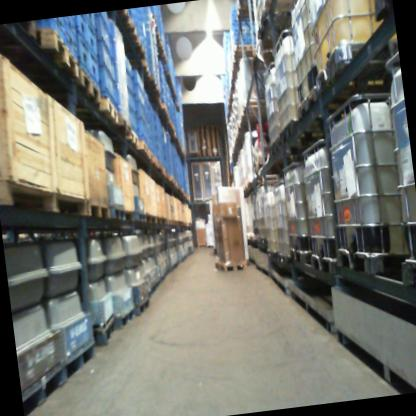pallet: (18, 361, 71, 416), (34, 23, 80, 83), (61, 334, 100, 378), (73, 64, 101, 106), (91, 312, 119, 347), (98, 95, 119, 125), (87, 196, 111, 221), (114, 304, 137, 330), (214, 257, 248, 274), (129, 57, 151, 80), (232, 41, 257, 59), (234, 1, 255, 22), (133, 295, 152, 316), (115, 112, 131, 136), (19, 21, 36, 40), (106, 204, 125, 221), (124, 128, 139, 148), (126, 18, 139, 41), (135, 140, 149, 156), (131, 209, 146, 223), (135, 40, 145, 58), (117, 8, 129, 22), (148, 74, 157, 89), (150, 156, 159, 168), (147, 150, 153, 160), (199, 153, 211, 158), (210, 152, 221, 157), (209, 147, 220, 152), (199, 148, 210, 153), (198, 145, 209, 150), (210, 149, 220, 154), (208, 143, 220, 147), (209, 145, 220, 149), (199, 151, 210, 155)
small_load_carrier: (83, 13, 98, 64), (76, 33, 91, 78), (35, 17, 61, 41), (87, 45, 100, 90), (97, 67, 113, 103), (94, 41, 110, 75), (92, 14, 107, 46), (60, 22, 73, 56), (74, 14, 86, 46), (109, 76, 119, 112), (106, 51, 116, 83), (104, 27, 113, 62), (84, 13, 97, 36), (59, 16, 71, 40), (69, 23, 78, 49), (136, 119, 145, 143), (131, 68, 140, 92), (132, 84, 141, 107), (71, 38, 79, 63), (134, 101, 143, 123), (102, 11, 110, 34), (69, 15, 76, 30)
